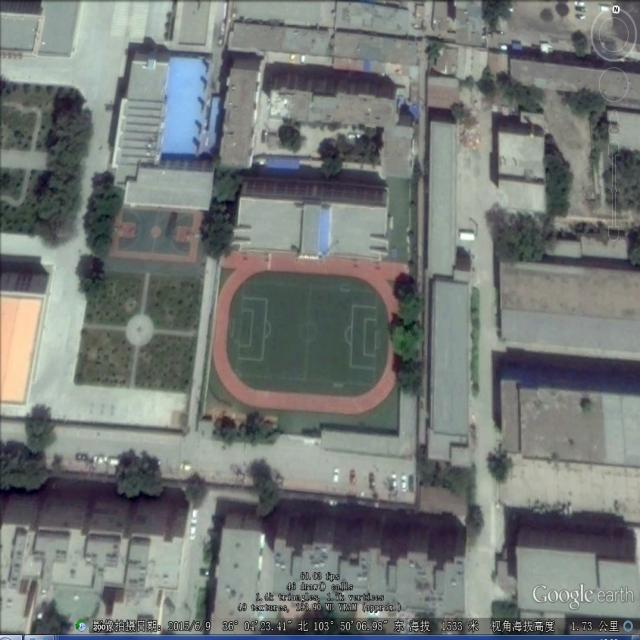playground: (212, 249, 416, 418)
